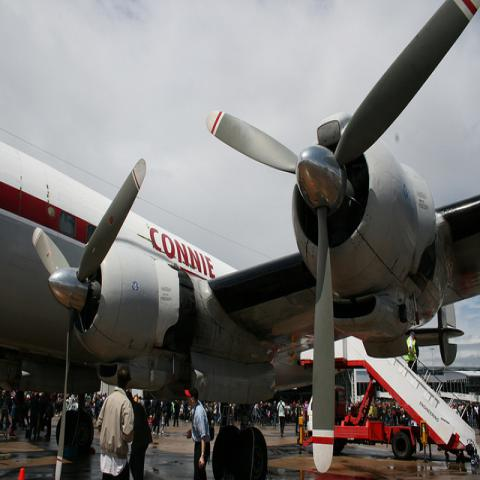truck: (298, 386, 422, 458)
